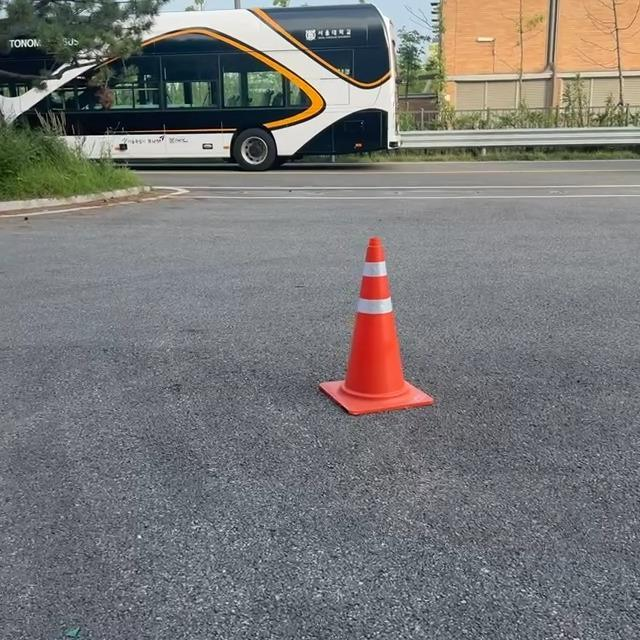fallen_object: (323, 222, 484, 425)
